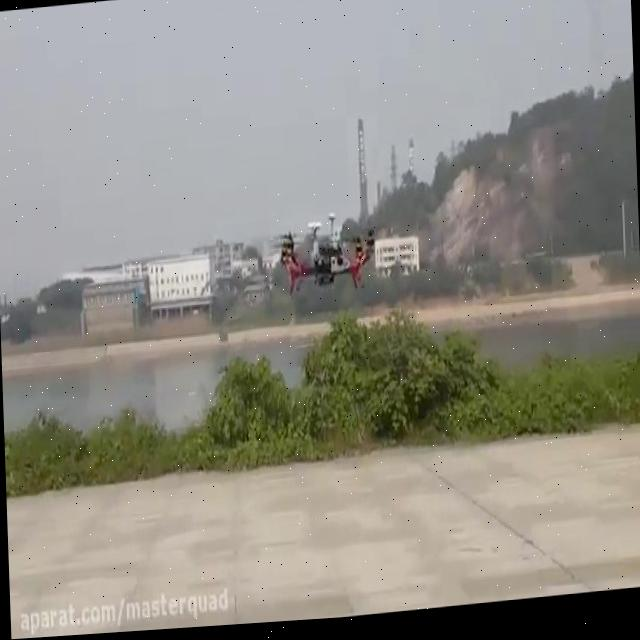drone: (271, 209, 377, 301)
